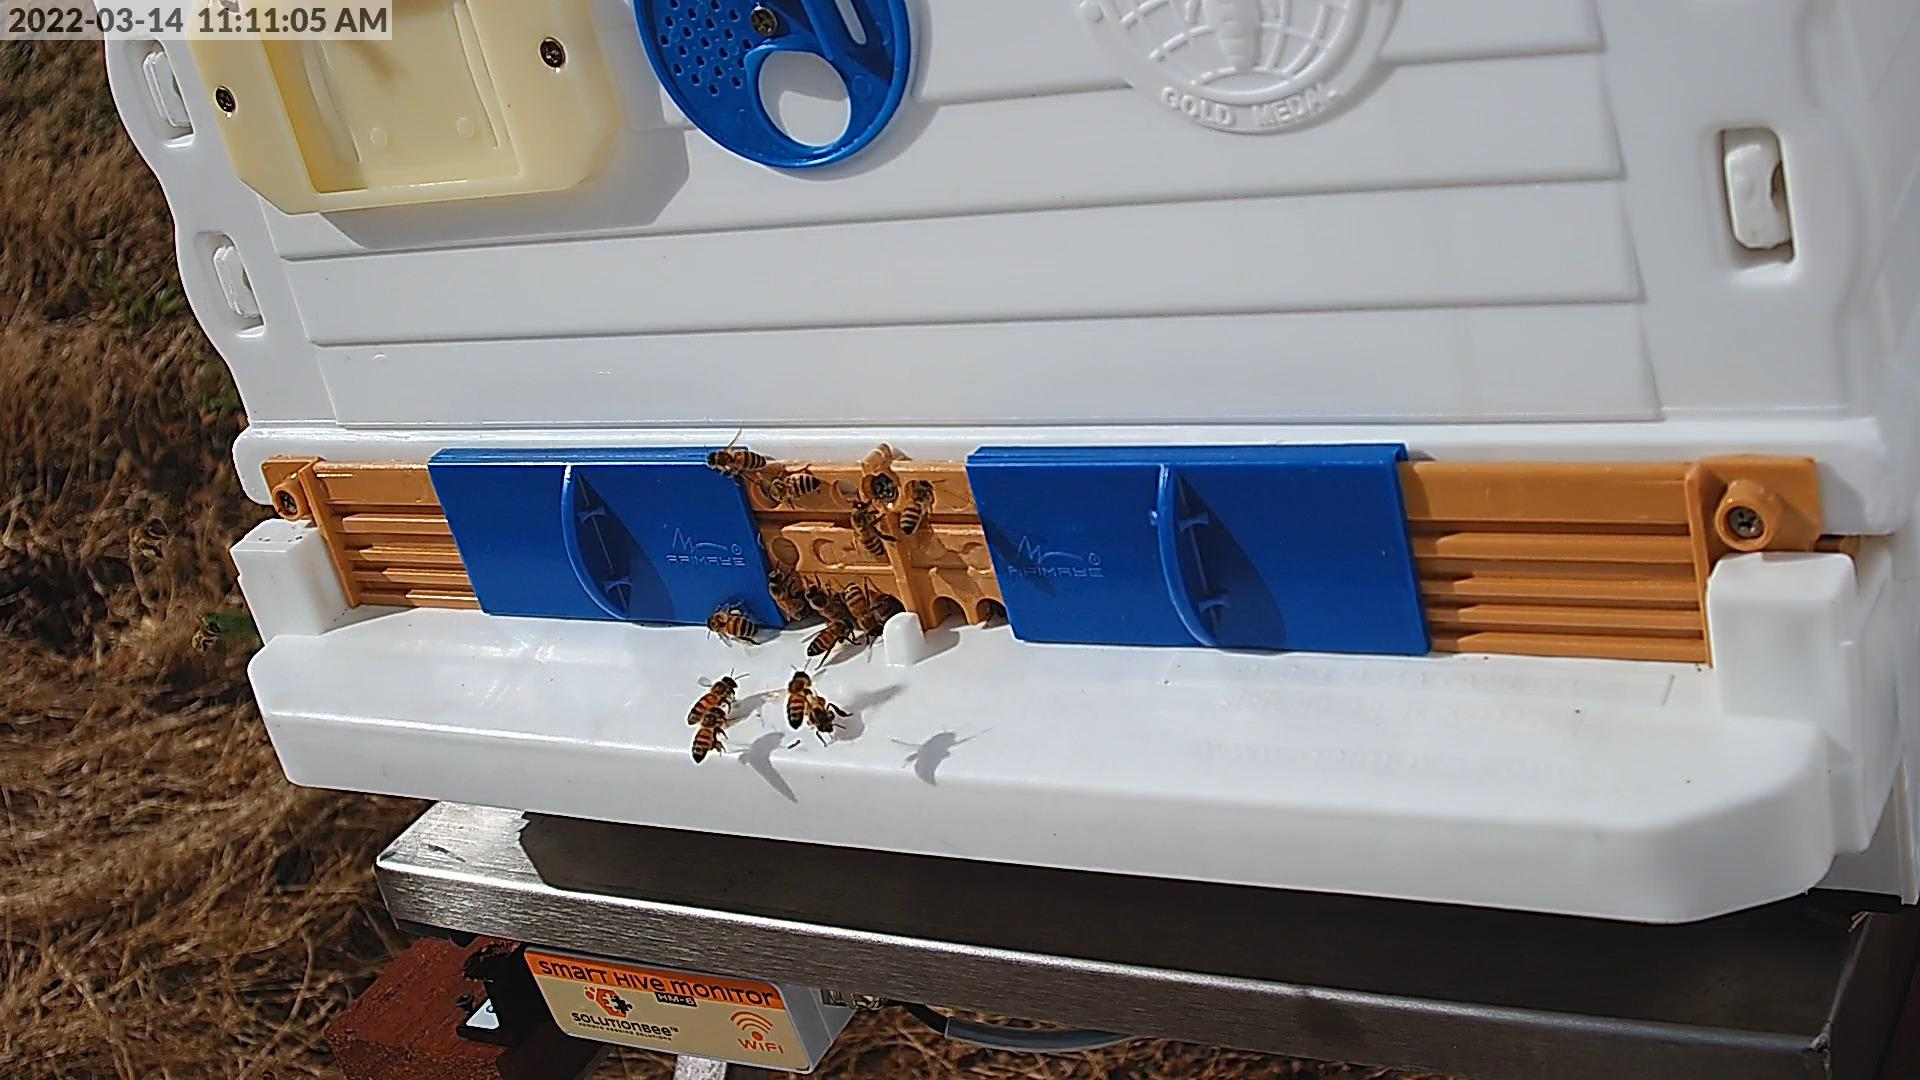bee: (688, 676, 736, 725), (852, 498, 884, 559), (769, 567, 806, 618), (841, 580, 873, 638), (691, 708, 724, 762), (806, 621, 851, 658), (806, 587, 848, 622), (765, 475, 820, 501), (786, 671, 810, 729), (902, 489, 928, 534), (707, 451, 765, 468), (869, 595, 899, 625), (191, 625, 216, 653), (812, 694, 828, 731)
pollenbee: (708, 607, 758, 637)
